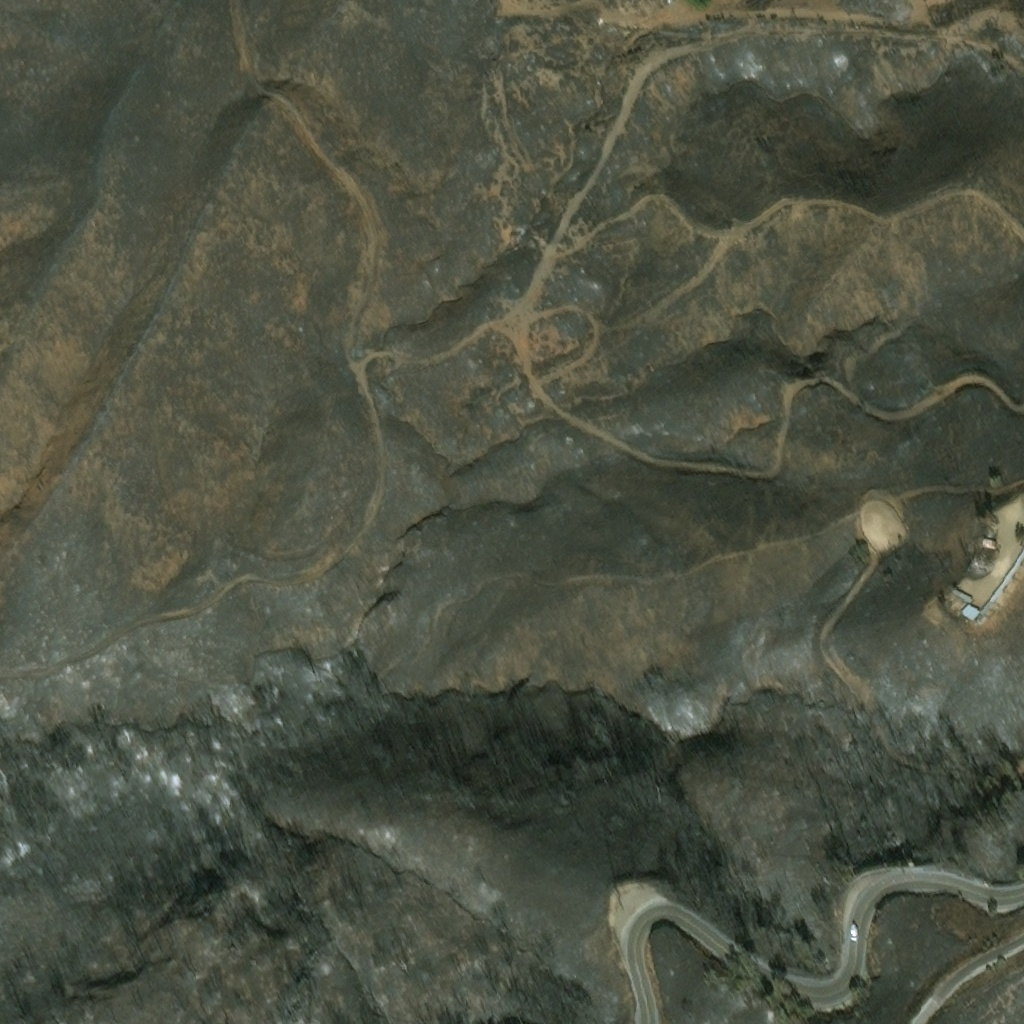2 major-damage: (961, 554, 1023, 633), (951, 589, 973, 608), (978, 537, 997, 550)
3 destroyed: (970, 555, 991, 569), (991, 554, 1005, 571), (983, 520, 996, 537), (968, 571, 984, 584)
